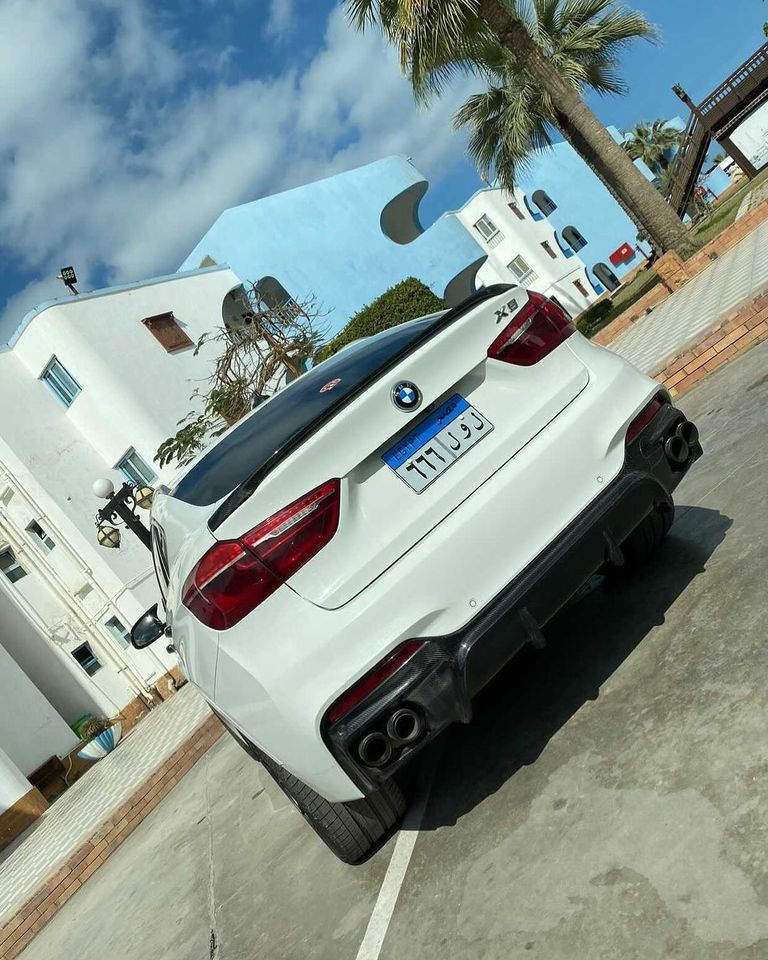carpl: (385, 408, 503, 487)
